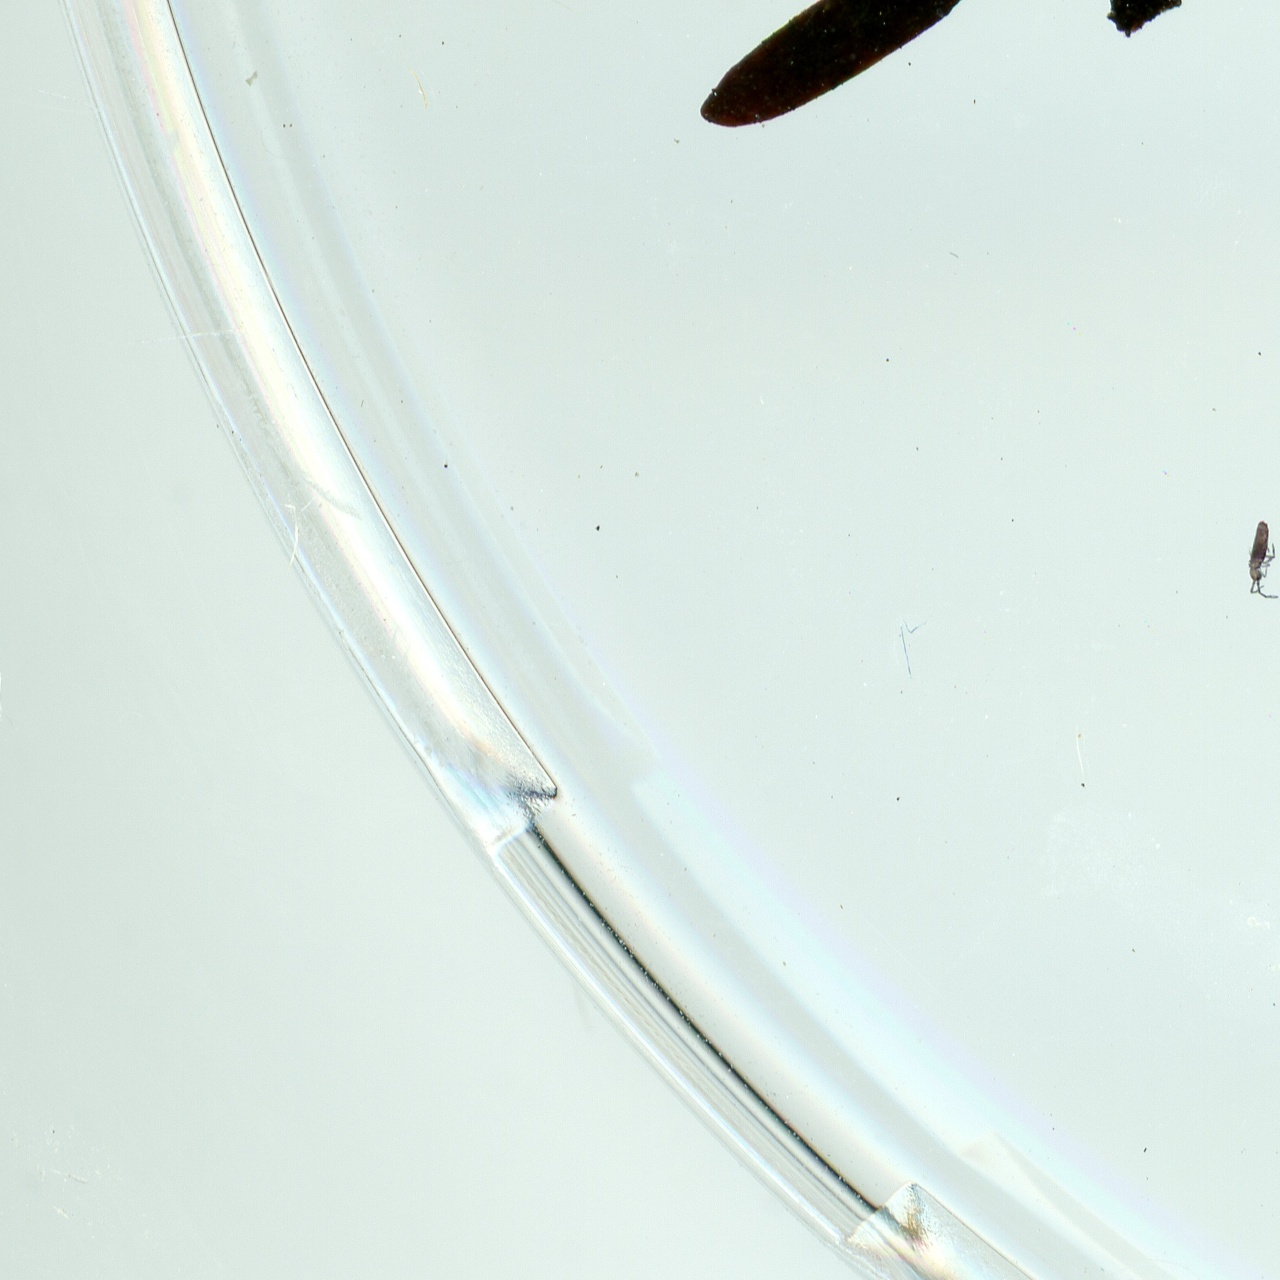arthropod: (1233, 501, 1280, 613)
